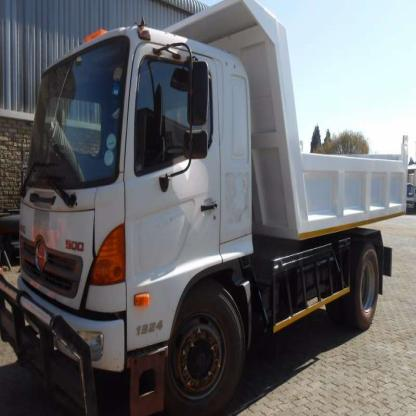dump_truck: (9, 4, 415, 412)
